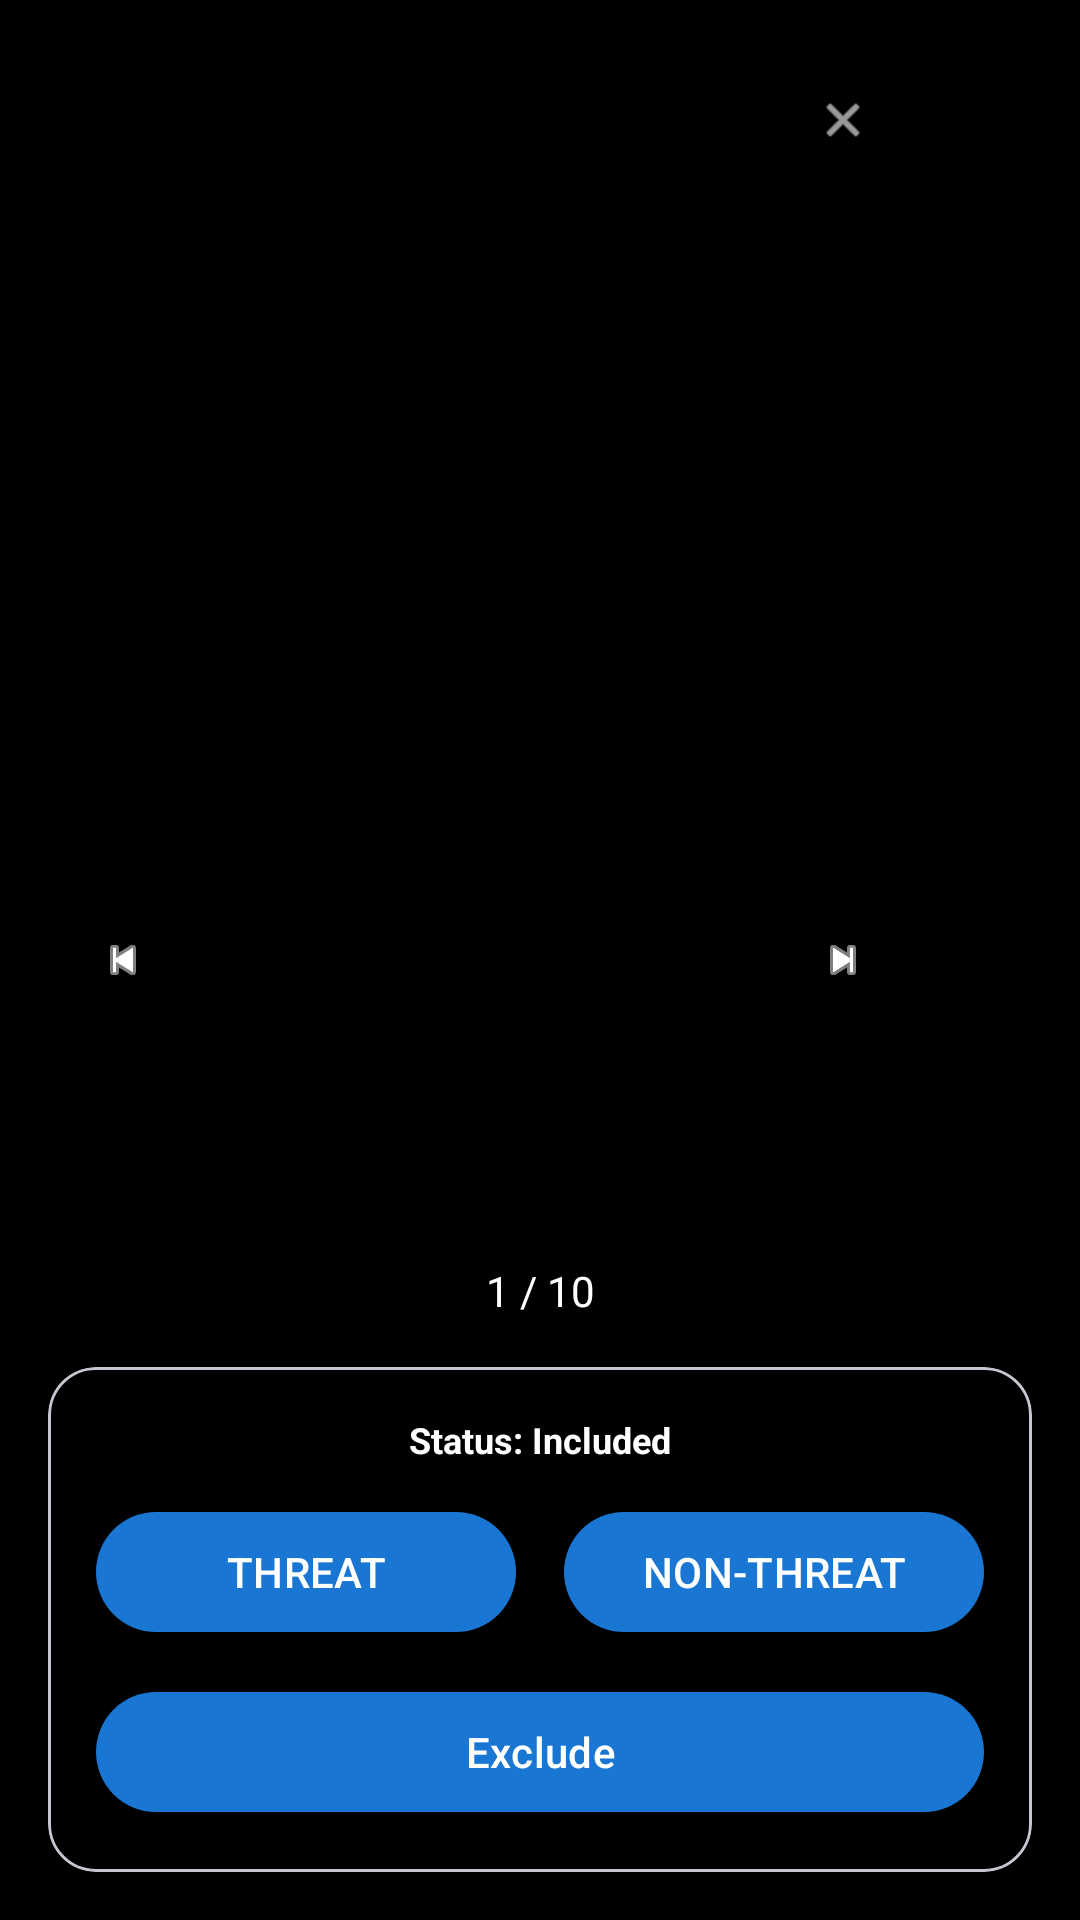

Where to tap for icons on this 1080w x 1920h app screen, as point (x, y):
Close: point (843, 120)
Next: point (843, 960)
Previous: point (123, 960)
